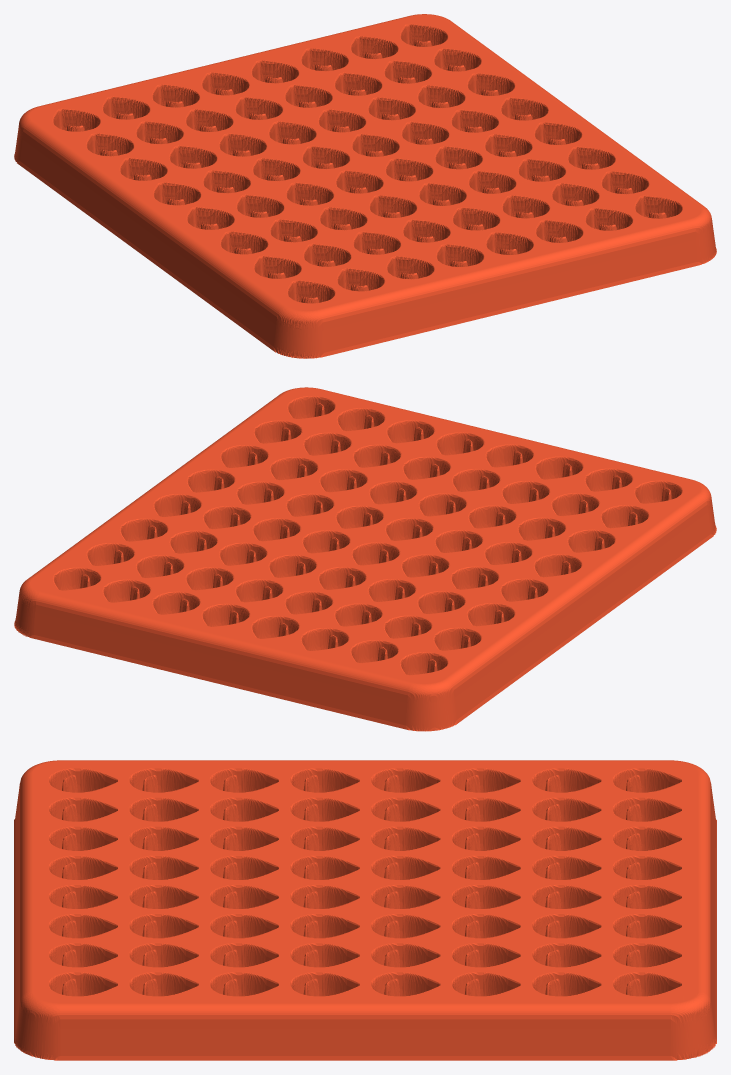
File: mold.glb
3 renders of one model, top to bottom at view 1: azimuth 30°, elevation 25°; view 2: azimuth 150°, elevation 25°; view 3: azimuth 270°, elevation 25°, orthographic. The views are drawn at different scales.
Visible parts, largest first — view 1: geometry_0; view 2: geometry_0; view 3: geometry_0.
Boxes of the visible parts, x1=… form: geometry_0: x1=14, y1=14, x2=716, y2=358; geometry_0: x1=14, y1=387, x2=716, y2=731; geometry_0: x1=14, y1=760, x2=716, y2=1060.
Size of the model in its own units: 0.1175 by 0.0105 by 0.1355.
